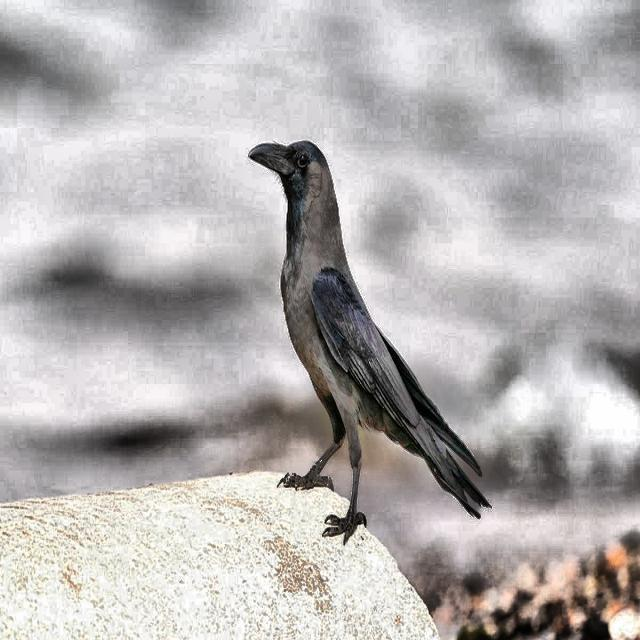crow: (228, 123, 520, 552)
